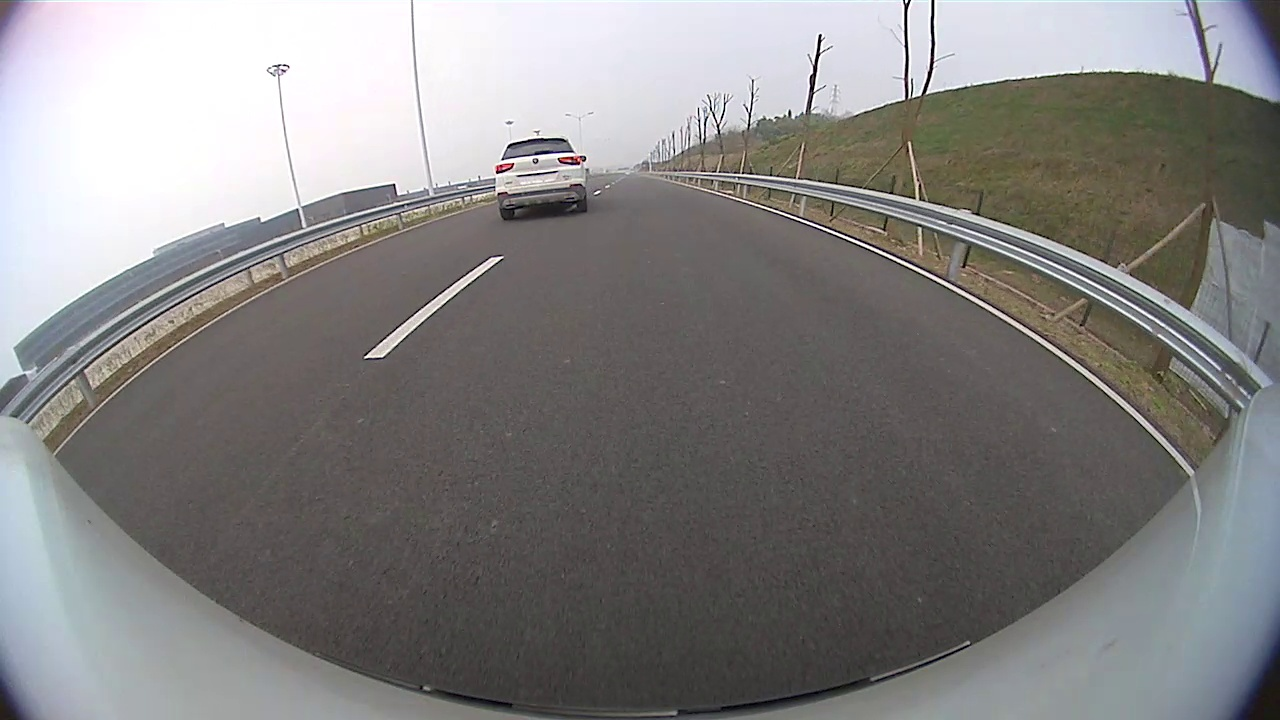car: (494, 133, 591, 222)
